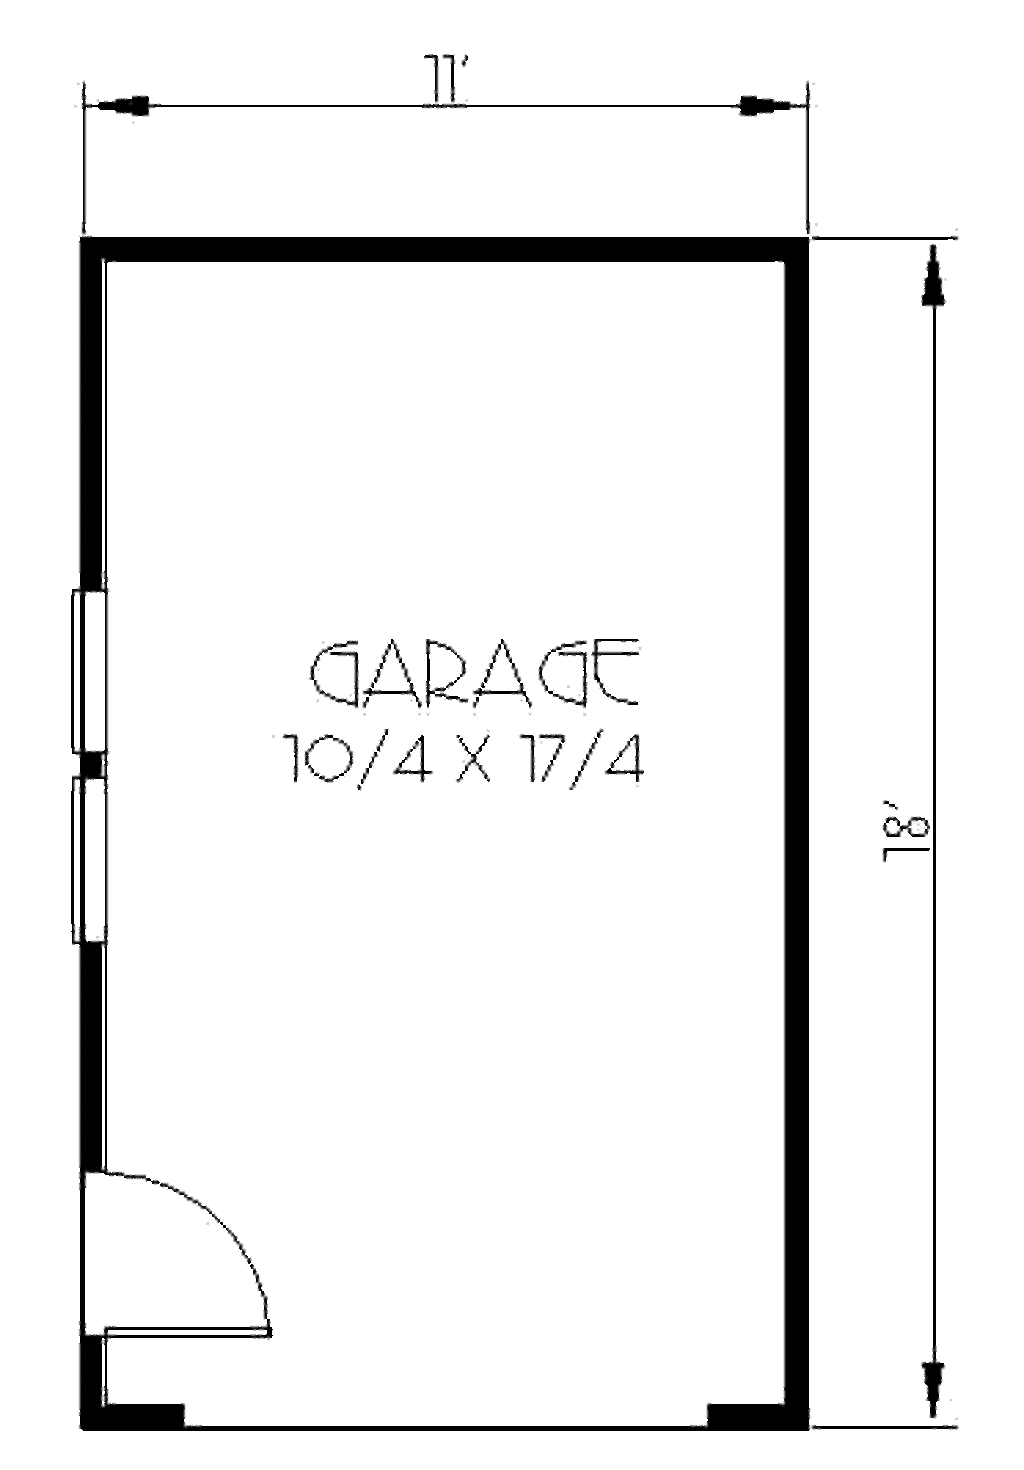door: (80, 1155, 286, 1346)
window: (55, 777, 126, 941), (57, 561, 113, 761)
